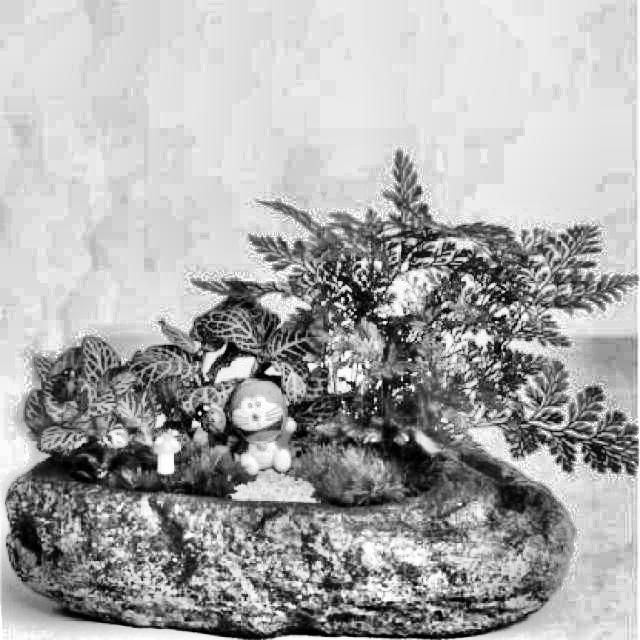plants: (26, 185, 640, 633)
